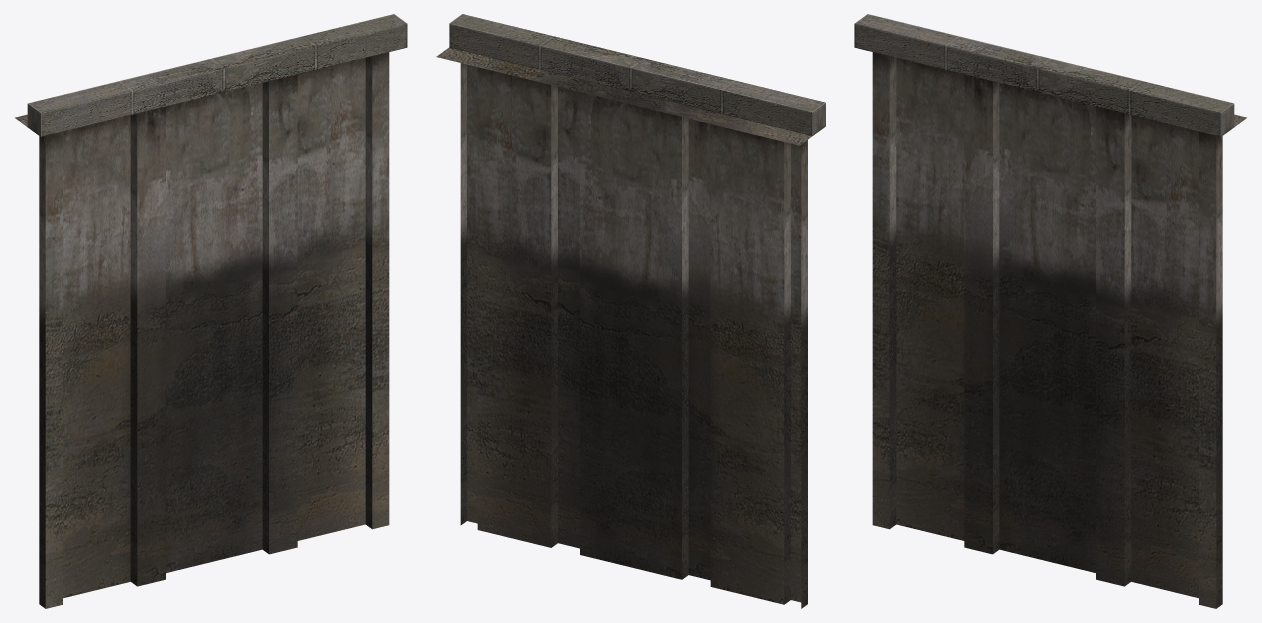
File: Dockslb5.glb
3 renders of one model, left to right at view 1: azimuth 30°, elevation 25°; view 2: azimuth 150°, elevation 25°; view 3: azimuth 330°, elevation 25°, orthographic.
Visible parts, largest first — view 1: _Dockslb5; view 2: _Dockslb5; view 3: _Dockslb5.
Boxes of the visible parts, x1=… form: _Dockslb5: x1=15, y1=14, x2=407, y2=608; _Dockslb5: x1=436, y1=14, x2=825, y2=608; _Dockslb5: x1=854, y1=14, x2=1246, y2=608.
Size of the model in its own units: 16 by 21 by 2.
1 material, 1 textured.
